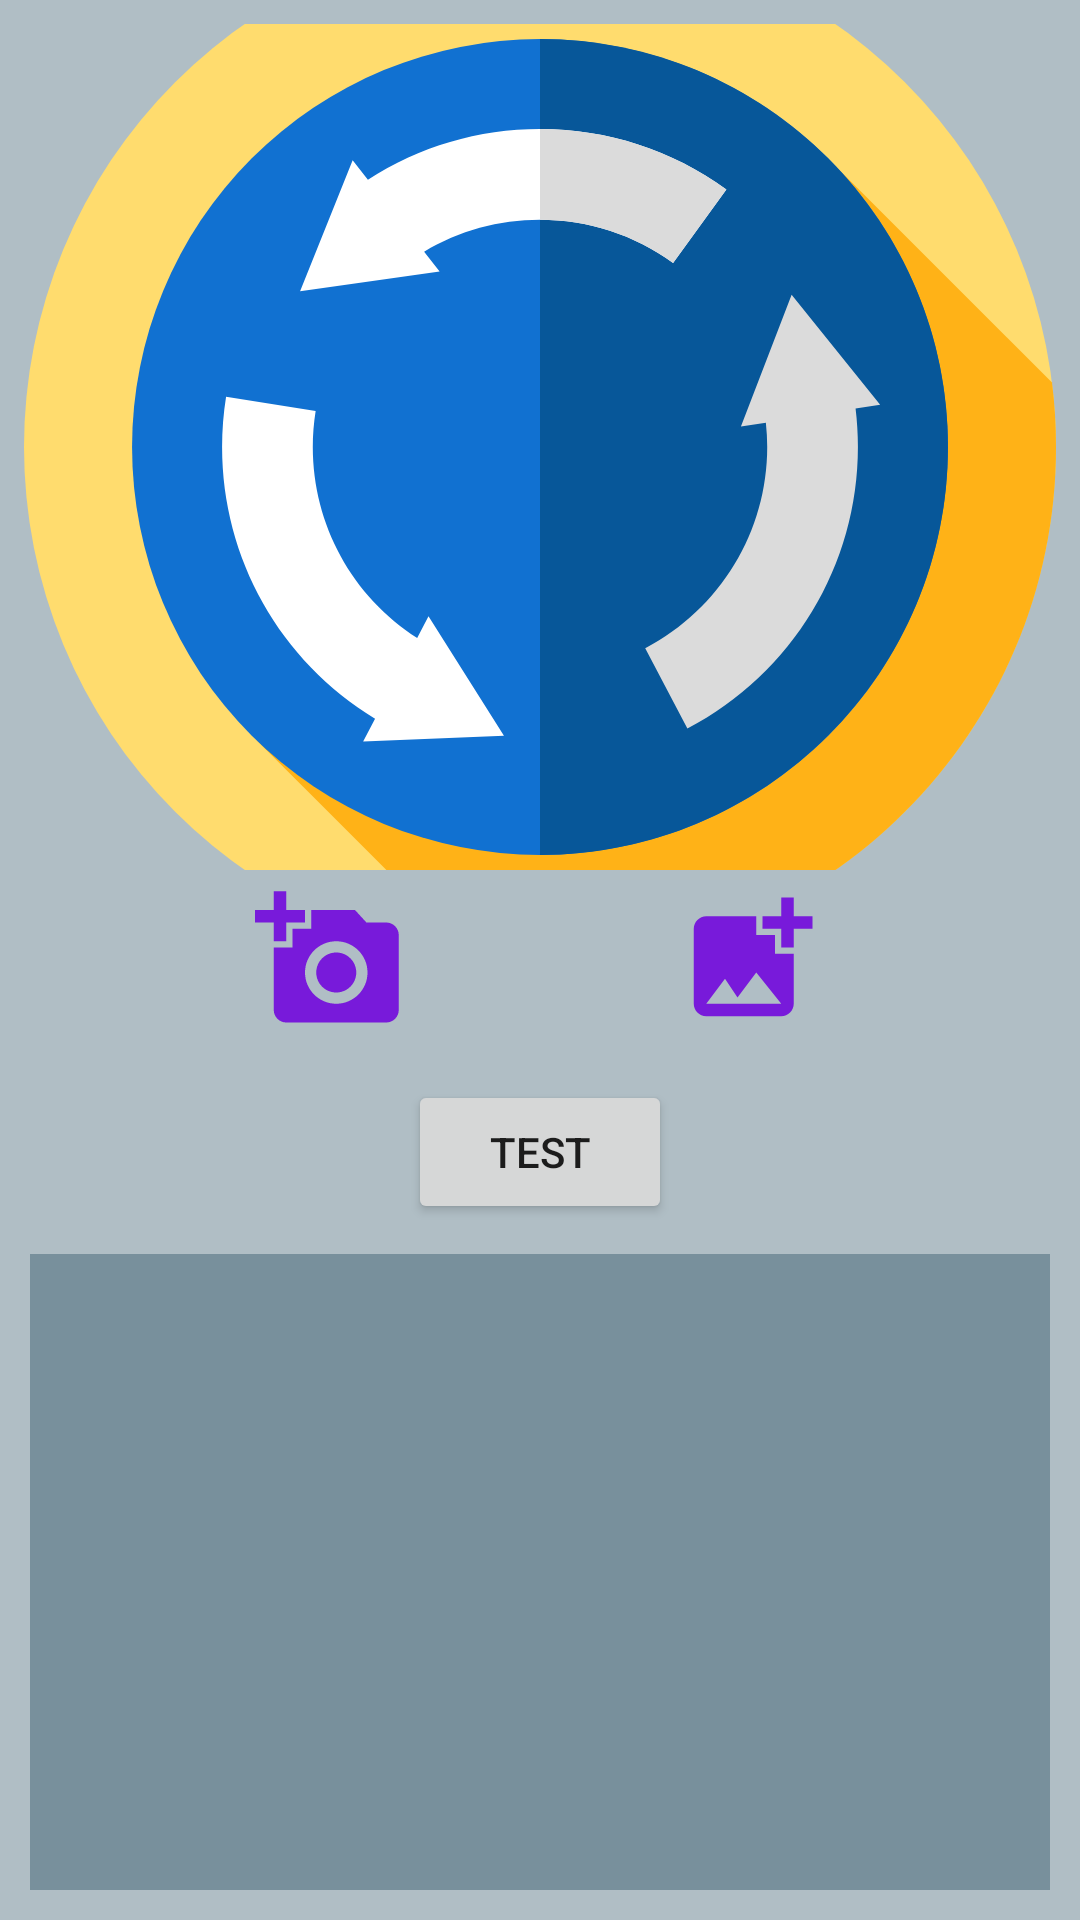

Named icons in this screenshot (1080 x 1920) and their centers, [x,y]:
add photo: [327,957]
add photo alternate: [753,957]
